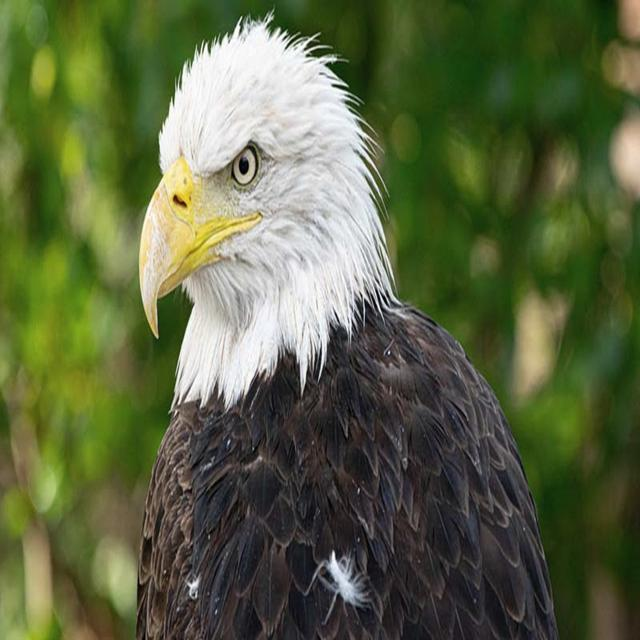eagle: (136, 18, 557, 639)
